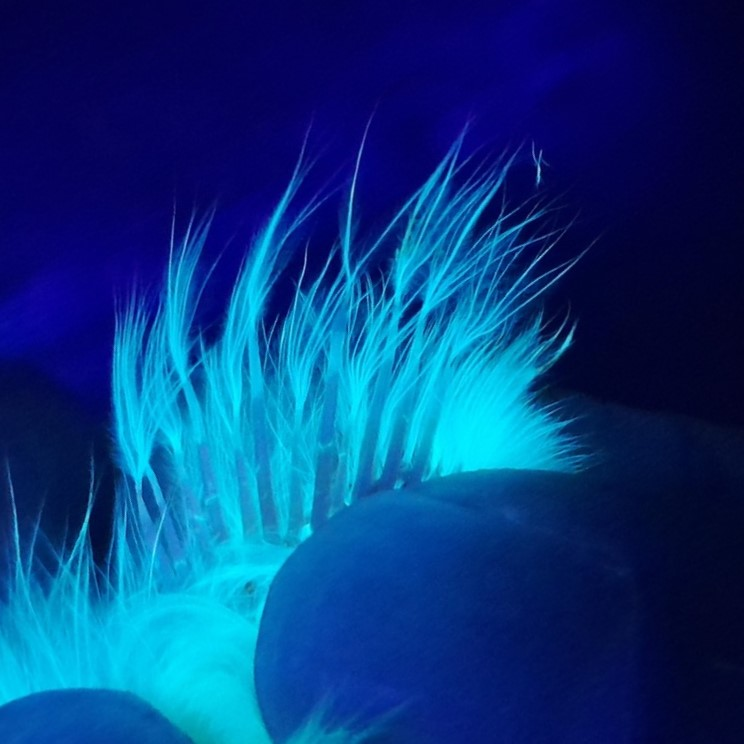male: (135, 284, 465, 571)
